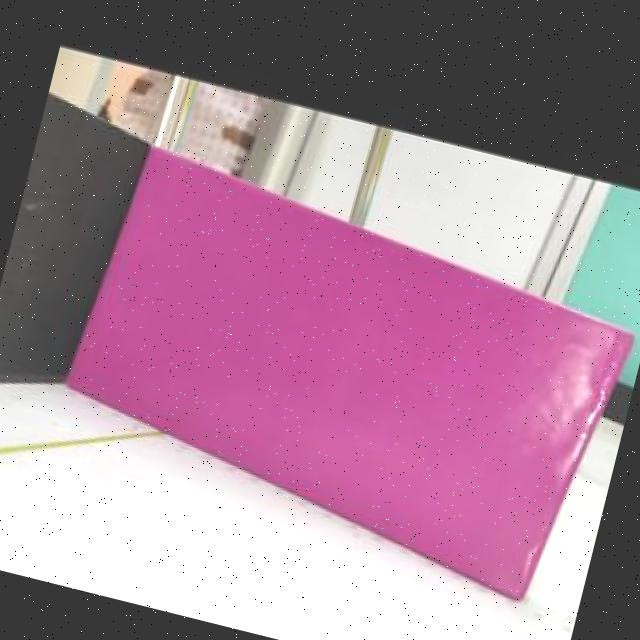xparking: (65, 144, 632, 599)
